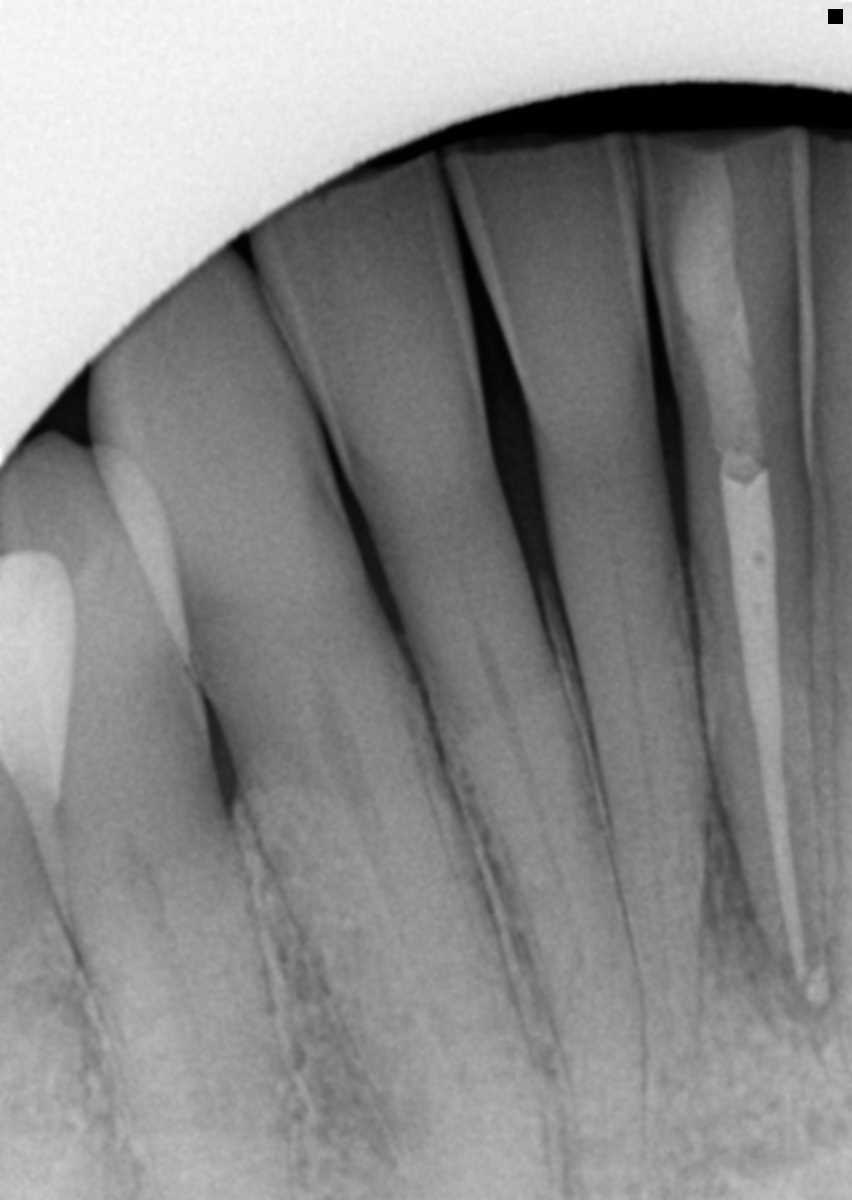Apical Lesion: (702, 838, 839, 1037)
Main Canal: (311, 702, 493, 1131), (464, 600, 582, 969), (602, 535, 670, 1046)
Main Root: (240, 654, 552, 1200), (412, 573, 645, 1200), (45, 803, 308, 1200), (547, 526, 705, 1108), (680, 483, 834, 986)
Root Canal Filling: (721, 482, 807, 986)
